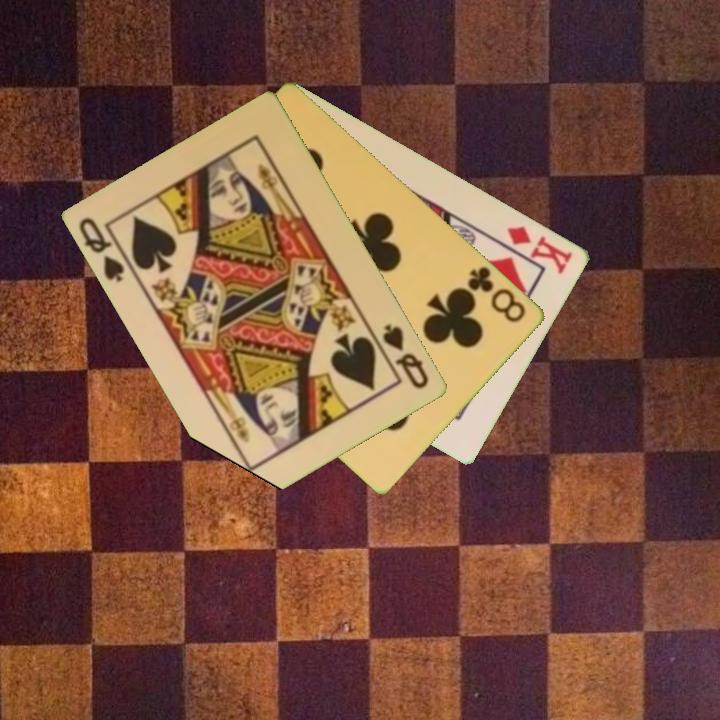8c: (464, 263, 530, 326)
Kd: (504, 222, 576, 277)
Qs: (379, 321, 433, 392), (75, 214, 128, 285)
